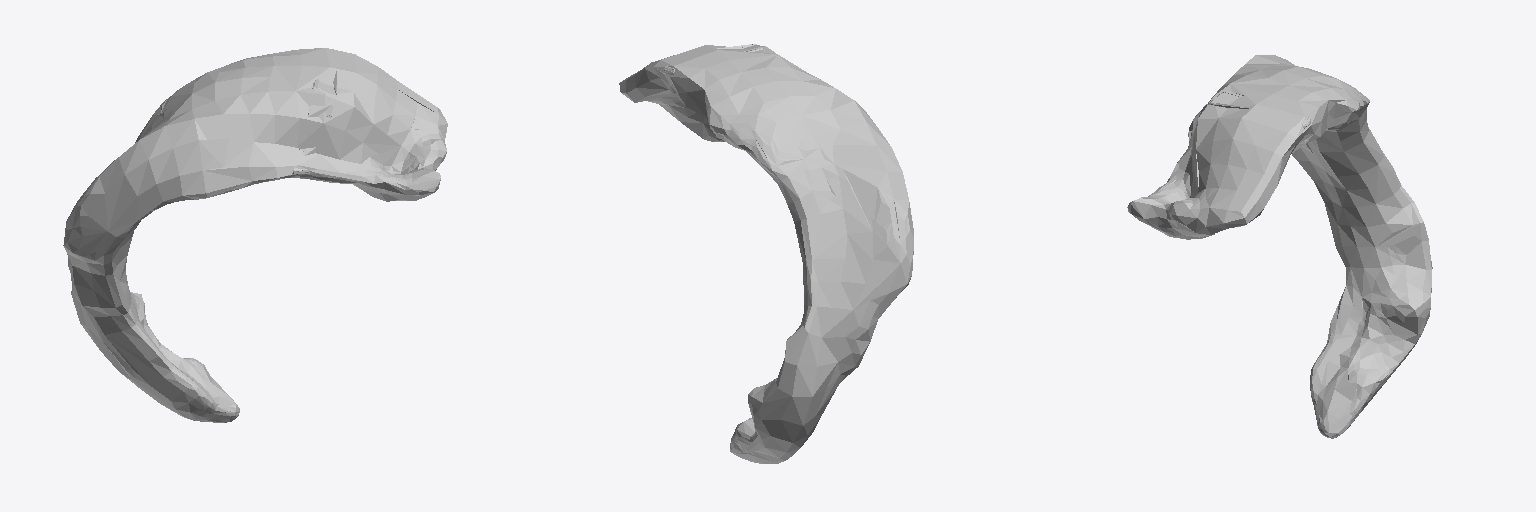
File: volume-selector-with-skeleton.obj
3 views of the same model, side by side, from view 1: azimuth 30°, elevation 25°; view 2: azimuth 150°, elevation 25°; view 3: azimuth 270°, elevation 25° (orthographic).
Visible parts, largest first — view 1: region, slice; view 2: region; view 3: region.
Part boxes in pixels (left/top/right/bottom): region: left=63, top=48, right=447, bottom=422; slice: left=292, top=49, right=337, bottom=174; region: left=619, top=45, right=913, bottom=463; region: left=1127, top=55, right=1432, bottom=438.
Size of the model in its own units: 15.28 by 16.03 by 12.13.